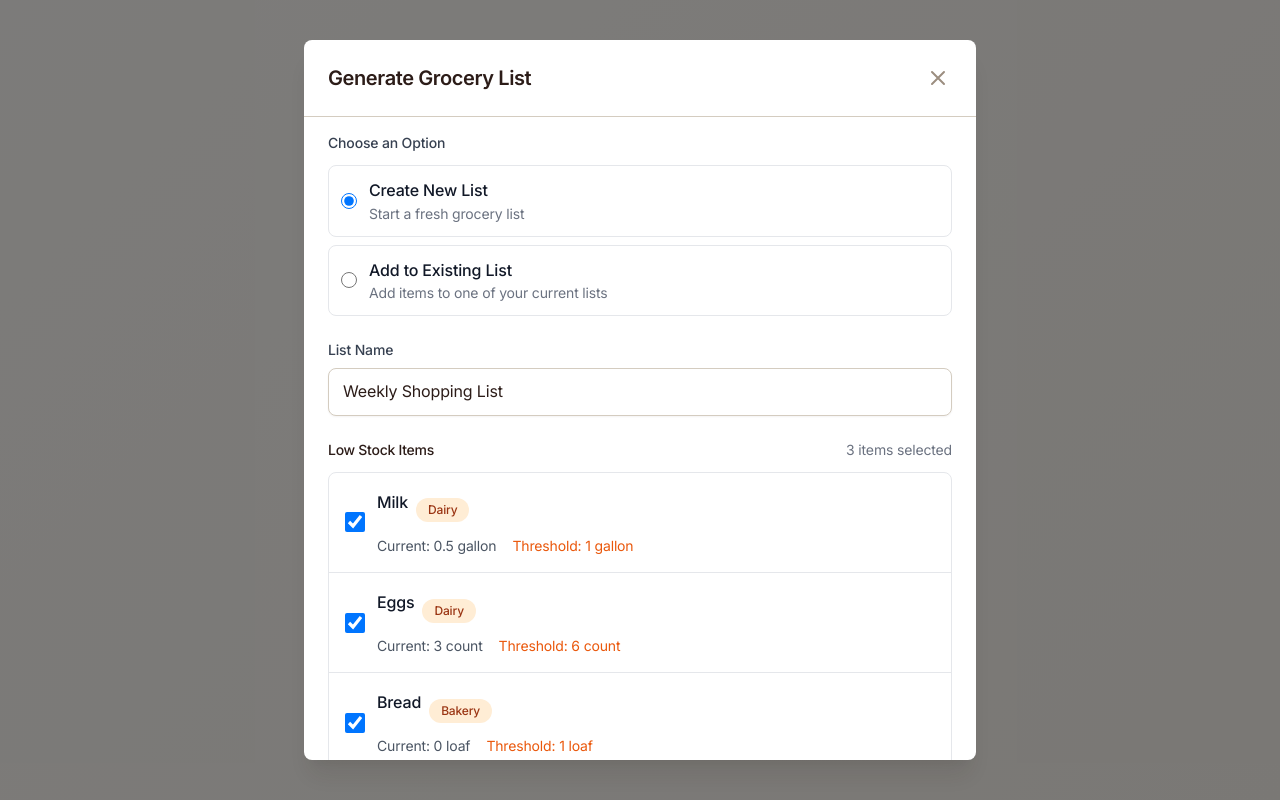
Test: GenerateGroceryListModal › Adding to Existing Lists › should show dropdown of existing lists when "add to existing" is selected
Click the radio button labelled "Add to Existing List Add items to one of your current lists" at (349, 280), box top-left (341, 272), bottom-right (357, 288)
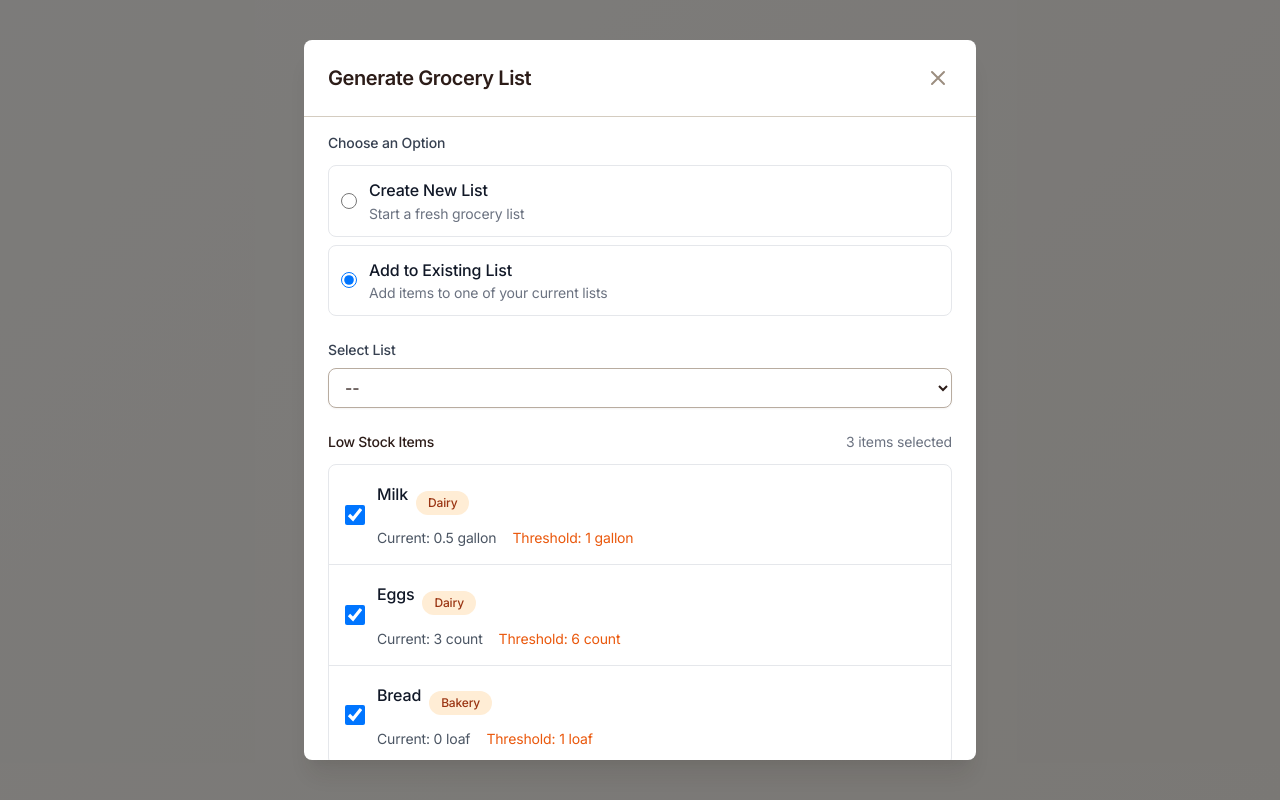
Expected: the dropdown labelled "Select List" is shown, top-left (328, 368), bottom-right (952, 408)
